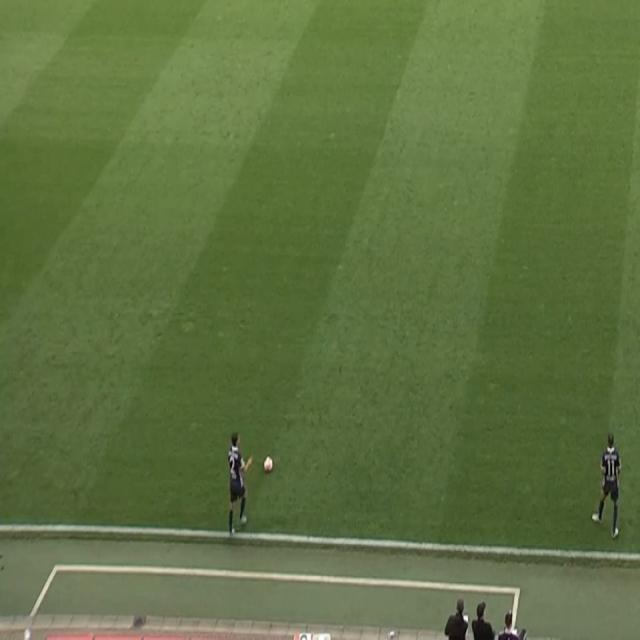ball: (262, 454, 274, 474)
